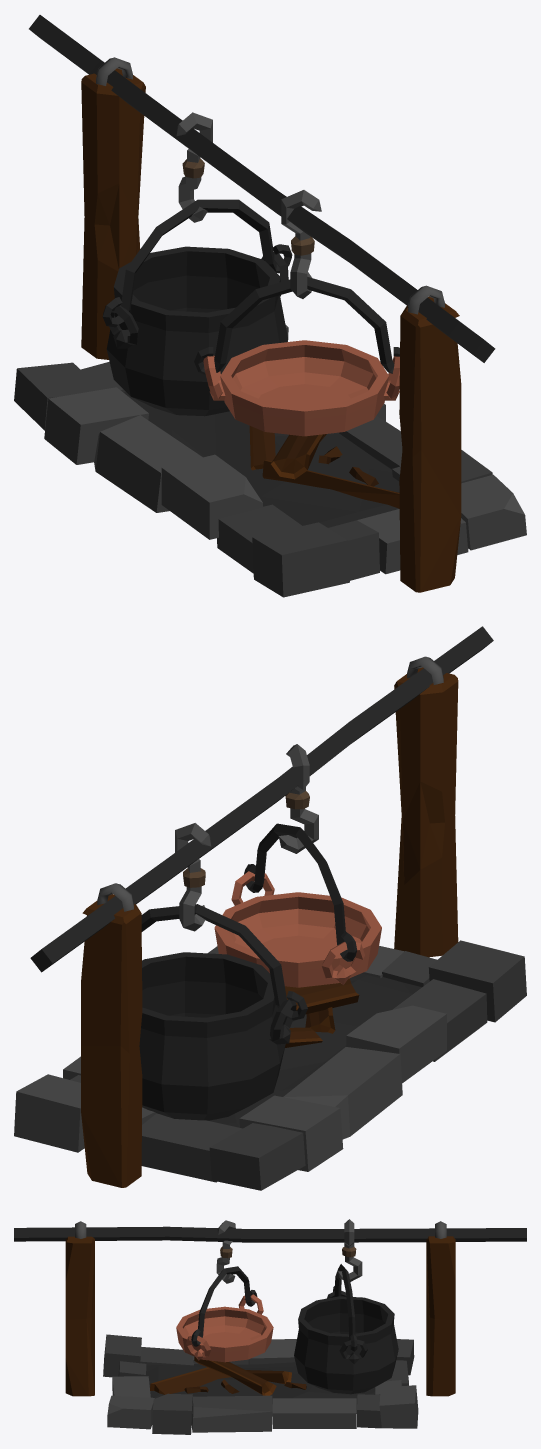
Rendered from Cooking_pit.fbx.
The picture shows the model from 3 angles, top to bottom: view 1: azimuth 30°, elevation 25°; view 2: azimuth 150°, elevation 25°; view 3: azimuth 270°, elevation 25°; orthographic projection. The views are drawn at different scales.
Visible parts, largest first — view 1: Cooking_pit; view 2: Cooking_pit; view 3: Cooking_pit.
Boxes of the visible parts, x1,y1,x2,y2 form: Cooking_pit: (14,15,526,597); Cooking_pit: (14,626,526,1190); Cooking_pit: (14,1219,526,1434).
Size of the model in its own units: 2.12 by 2.4 by 6.12.
